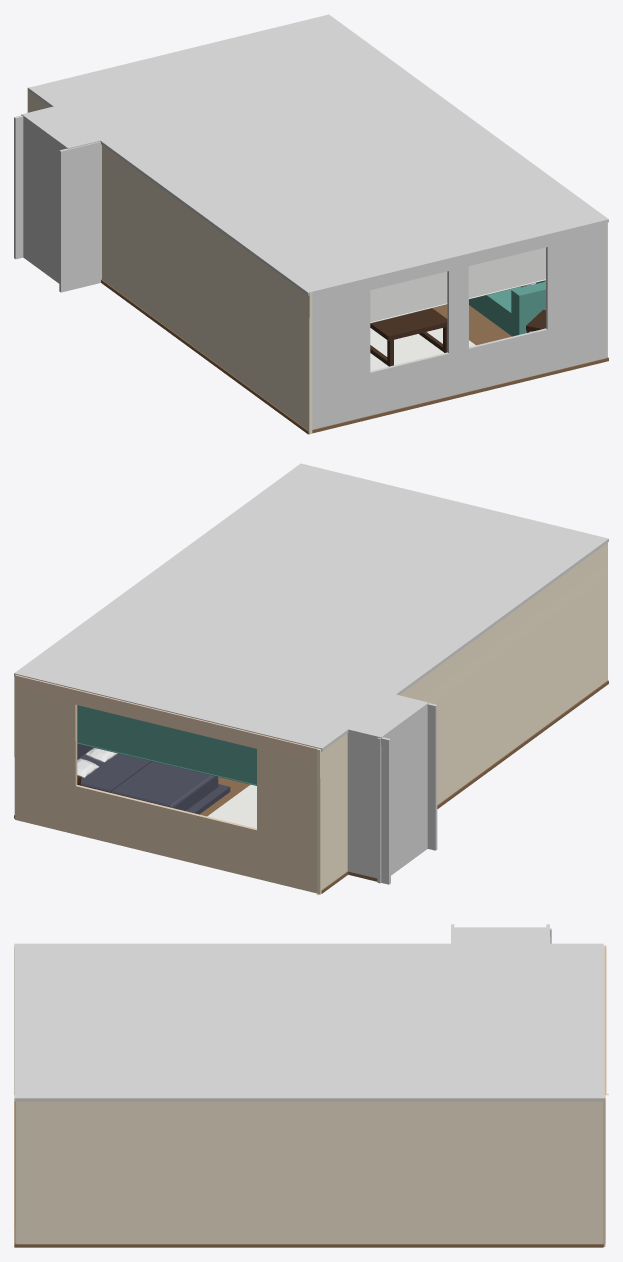
File: Room_color.fbx
3 renders of one model, top to bottom at view 1: azimuth 30°, elevation 25°; view 2: azimuth 150°, elevation 25°; view 3: azimuth 270°, elevation 25°, orthographic. The views are drawn at different scales.
Visible parts, largest first — view 1: Cube.052, Cube.001, Cube.005, Cube.025, Cube.017, Cube, Cube.029, Cube.028, Cube.010, Cube.014, Cube.050, Cube.024; view 2: Cube.052, Cube.003, Cube.001, Cube.027, Cube.017, Cube.024, Cube.006, Cube.018, Cube, Cube.025, Cube.051; view 3: Cube.052, Cube.002, Cube, Cube.003.
Part boxes in pixels (x1,y1,x2,y2): Cube.052: (21, 14, 608, 295); Cube.001: (102, 145, 312, 434); Cube.005: (312, 223, 606, 429); Cube.025: (59, 141, 101, 292); Cube.017: (21, 114, 71, 283); Cube: (101, 279, 608, 434); Cube.029: (468, 247, 545, 299); Cube.028: (370, 271, 447, 323); Cube.010: (469, 280, 545, 336); Cube.014: (370, 308, 447, 366); Cube.050: (370, 328, 475, 370); Cube.024: (14, 115, 23, 259); Cube.052: (14, 463, 608, 751); Cube.003: (15, 675, 317, 893); Cube.001: (316, 543, 607, 895); Cube.027: (77, 705, 256, 785); Cube.017: (377, 707, 427, 883); Cube.024: (347, 732, 390, 884); Cube.006: (77, 744, 230, 814); Cube.018: (317, 733, 347, 894); Cube: (14, 680, 608, 893); Cube.025: (427, 703, 437, 850); Cube.051: (207, 784, 256, 828); Cube.052: (14, 927, 603, 1101); Cube.002: (16, 1101, 602, 1244); Cube: (14, 1101, 603, 1247); Cube.003: (603, 946, 605, 1246).
Bounding box in the file's own units: 27390 × 10908 × 39357.
